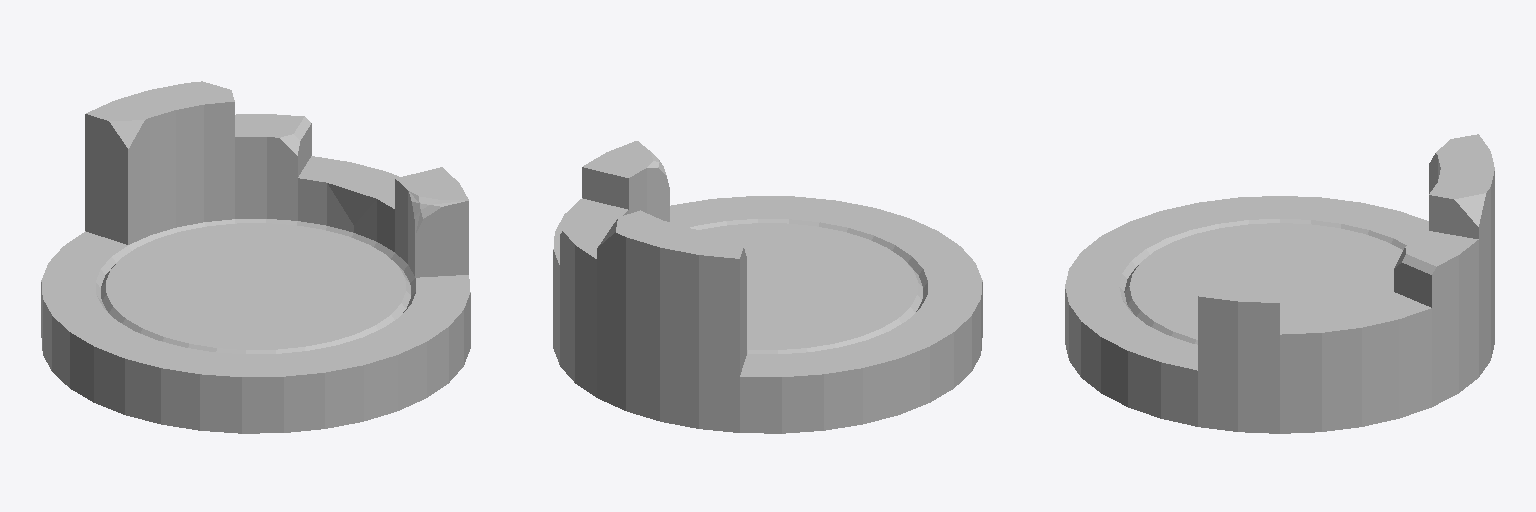
The model's file is sanctuary.obj.
3 renders of one model, left to right at view 1: azimuth 30°, elevation 25°; view 2: azimuth 150°, elevation 25°; view 3: azimuth 270°, elevation 25°, orthographic.
Parts seen in each view (by area): view 1: Cylinder; view 2: Cylinder; view 3: Cylinder.
Boxes of the visible parts, x1=… form: Cylinder: x1=41, y1=81, x2=470, y2=433; Cylinder: x1=553, y1=141, x2=982, y2=433; Cylinder: x1=1065, y1=134, x2=1494, y2=433.
Size of the model in its own units: 1.38 by 0.6169 by 1.38.